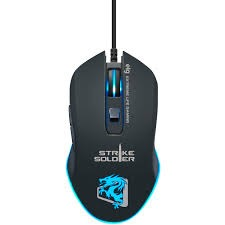mouse: (61, 42, 162, 220)
